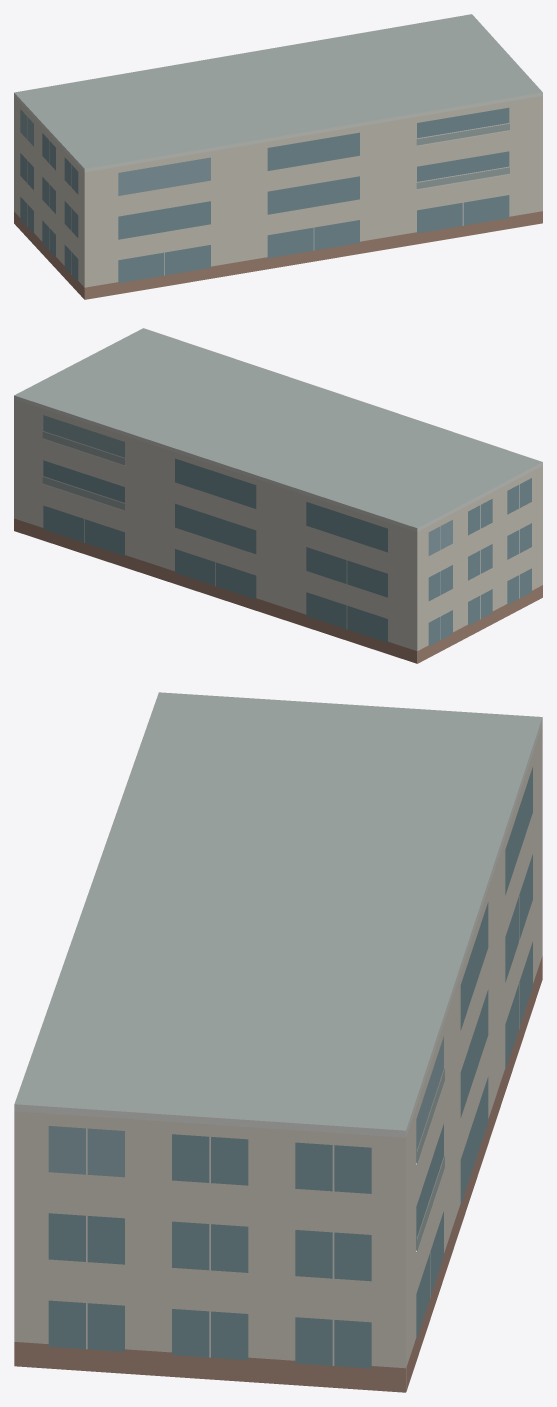
Rendered from survey-upis-32926074.glb.
3 renders of one model, top to bottom at view 1: azimuth 30°, elevation 25°; view 2: azimuth 150°, elevation 25°; view 3: azimuth 270°, elevation 25°, orthographic. The views are drawn at different scales.
Parts seen in each view (by area): view 1: survey-upis-32926074.tmp; view 2: survey-upis-32926074.tmp; view 3: survey-upis-32926074.tmp.
Boxes of the visible parts, x1,y1,x2,y2 form: survey-upis-32926074.tmp: (14,14,542,299); survey-upis-32926074.tmp: (14,328,542,663); survey-upis-32926074.tmp: (14,692,542,1392).
Size of the model in its own units: 32.85 by 9.15 by 16.73.
